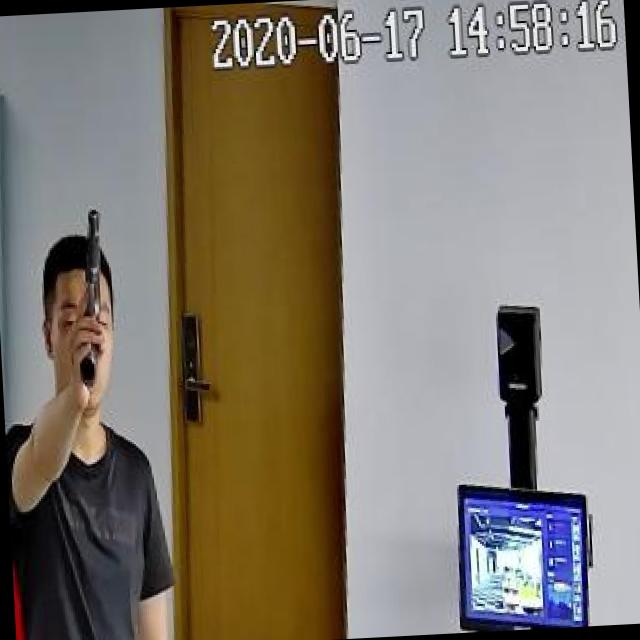Guns: (50, 188, 128, 421)
